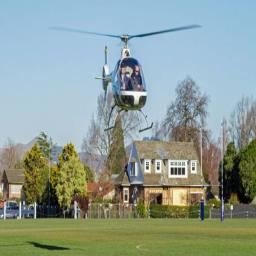helicopter: (61, 29, 187, 134)
